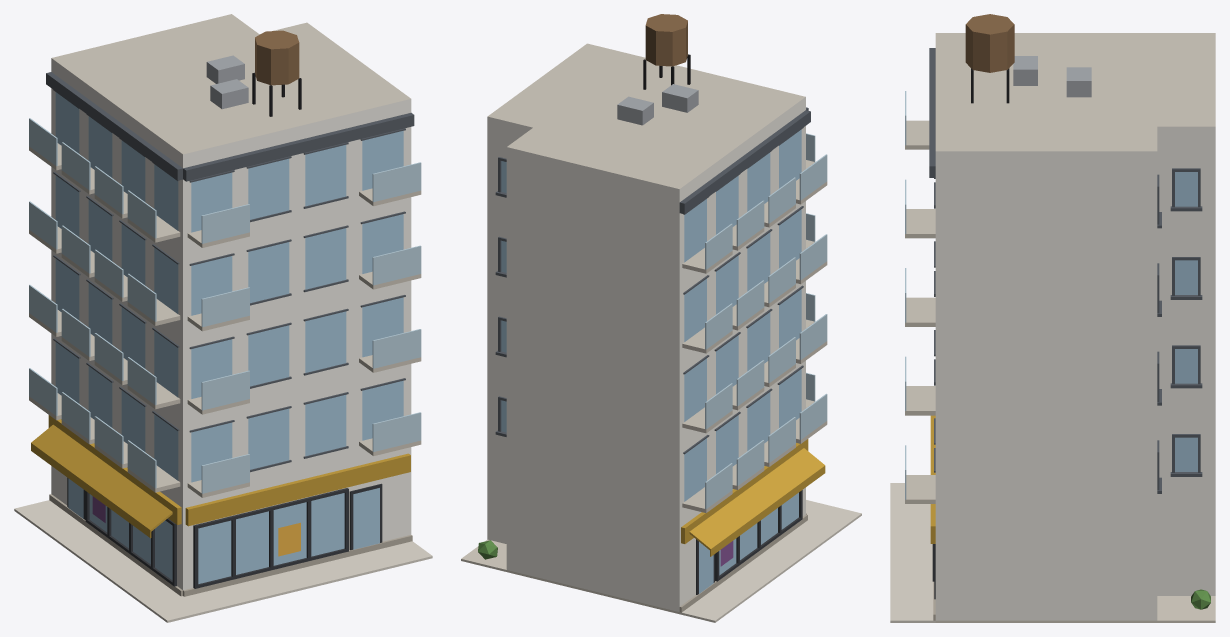
The model's file is Blok_kose_5k_2_Hafif.fbx.
3 views of the same model, side by side, from view 1: azimuth 30°, elevation 25°; view 2: azimuth 150°, elevation 25°; view 3: azimuth 270°, elevation 25° (orthographic). The views are drawn at different scales.
Visible parts, largest first — view 1: Blok_kose_5k_2_Hafif; view 2: Blok_kose_5k_2_Hafif; view 3: Blok_kose_5k_2_Hafif.
Boxes of the visible parts, box(x1,y1,x2,y2) form: Blok_kose_5k_2_Hafif: box(14, 14, 432, 622); Blok_kose_5k_2_Hafif: box(461, 14, 861, 622); Blok_kose_5k_2_Hafif: box(890, 14, 1215, 622).
Size of the model in its own units: 10 by 18.38 by 10.
